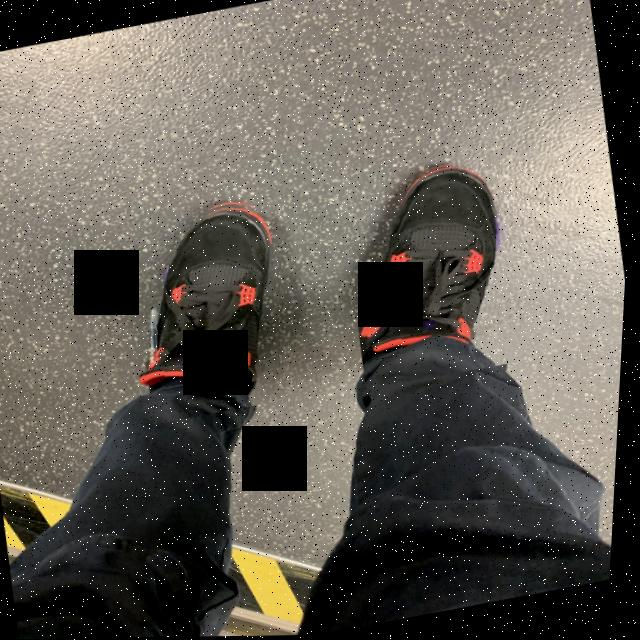shoe: (333, 153, 537, 391), (114, 192, 307, 426)
